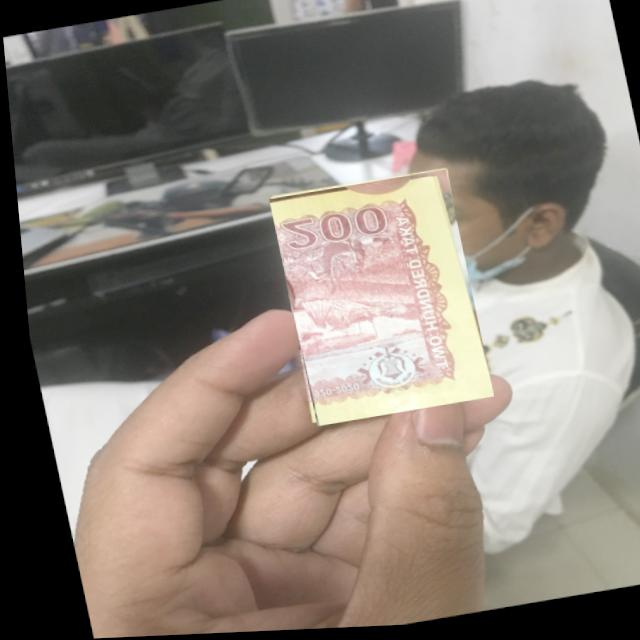Taka: (263, 172, 488, 429)
